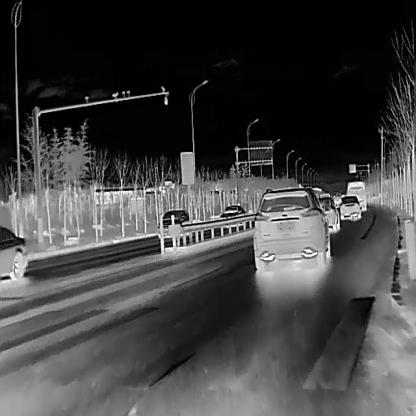bus: (346, 180, 366, 210)
car: (252, 187, 328, 269), (0, 223, 27, 281), (157, 208, 196, 242), (316, 196, 340, 232), (218, 204, 246, 230), (338, 194, 360, 218)
